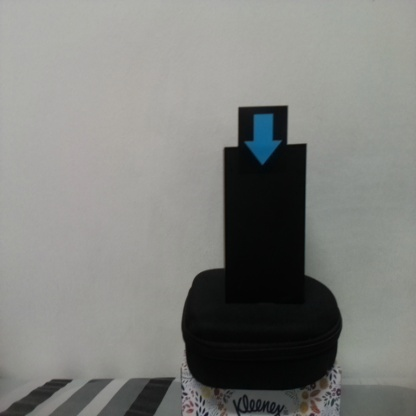id_2: (237, 107, 288, 175)
